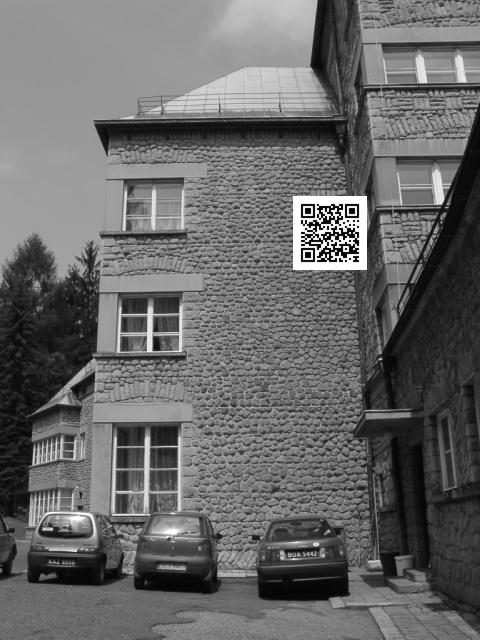qr_code: (293, 195, 370, 272)
